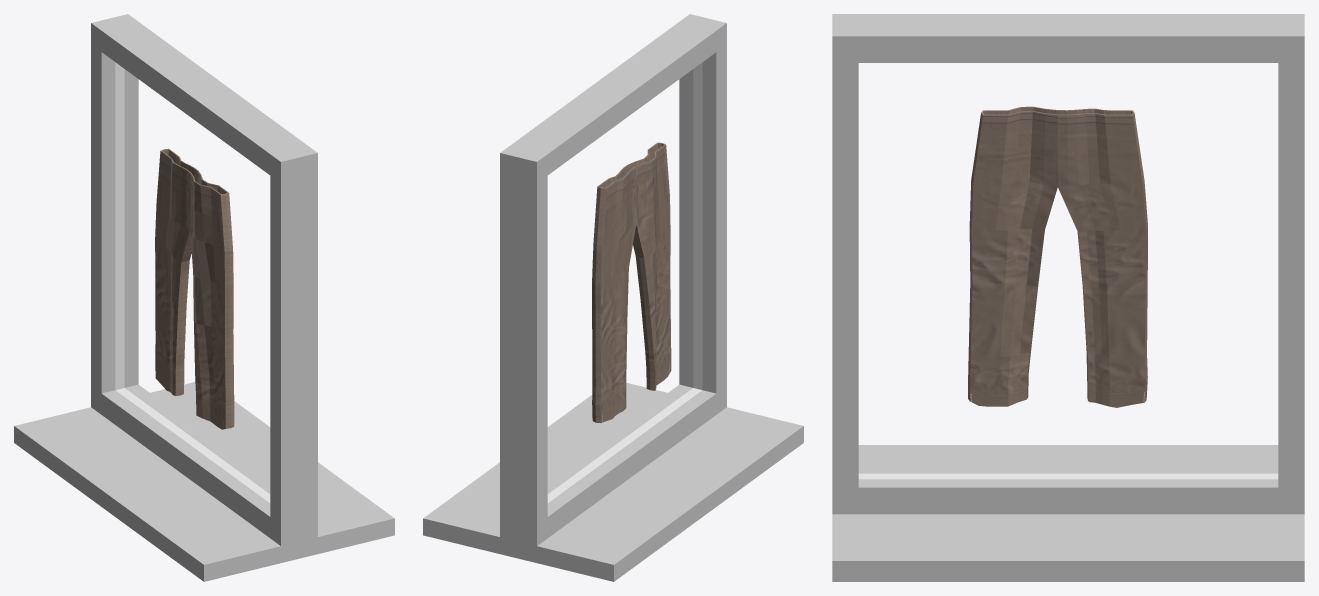
The model's file is chino_khaki.glb.
The picture shows the model from 3 angles, left to right: view 1: azimuth 30°, elevation 25°; view 2: azimuth 150°, elevation 25°; view 3: azimuth 270°, elevation 25°; orthographic projection. The views are drawn at different scales.
Visible parts, largest first — view 1: Cube.016, Plane.015; view 2: Cube.016, Plane.015; view 3: Cube.016, Plane.015.
Part boxes in pixels (bbox=[...]): Cube.016: bbox=[14, 14, 394, 581]; Plane.015: bbox=[155, 148, 234, 429]; Cube.016: bbox=[423, 14, 803, 581]; Plane.015: bbox=[592, 142, 671, 422]; Cube.016: bbox=[832, 14, 1304, 581]; Plane.015: bbox=[968, 106, 1147, 407].
Bounding box in the file's own units: 0.362 × 0.7276 × 0.6242.
3 materials, 1 textured.
